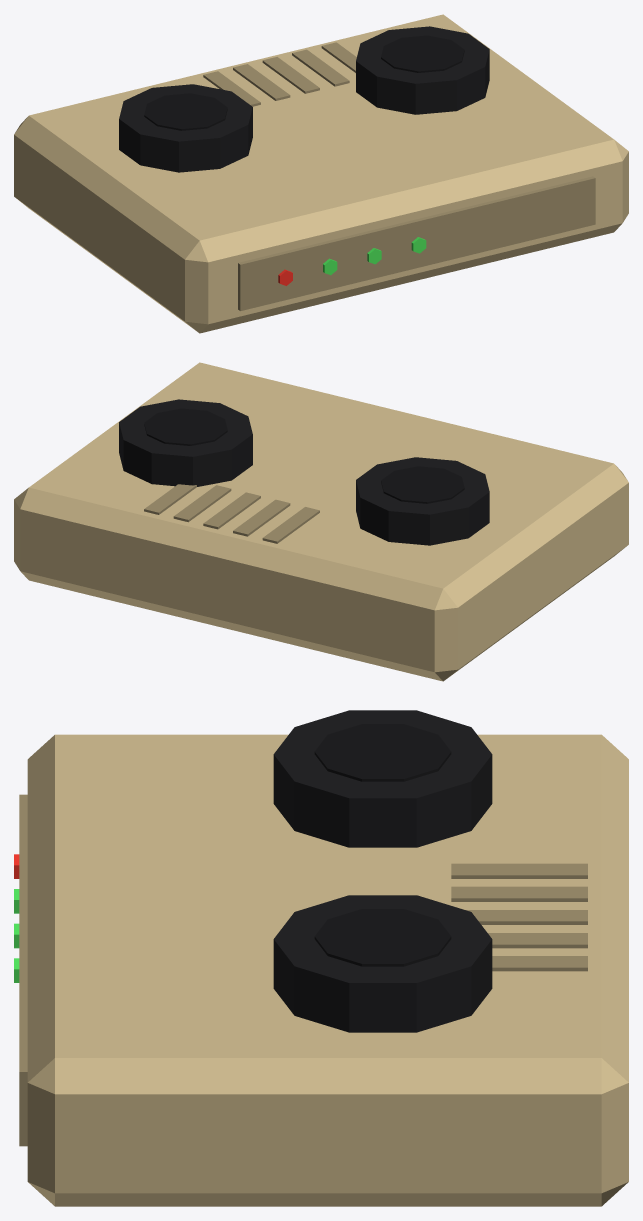
File: install.modem.glb
3 renders of one model, top to bottom at view 1: azimuth 30°, elevation 25°; view 2: azimuth 150°, elevation 25°; view 3: azimuth 270°, elevation 25°, orthographic. The views are drawn at different scales.
Visible parts, largest first — view 1: body, panel, cup-1, cup1, cup-hole-1, cup-hole1, vent1, vent3, vent2, vent0, vent4; view 2: body, cup-1, cup1, cup-hole-1, cup-hole1, vent1, vent2, vent3, vent0, vent4; view 3: body, cup1, cup-1, cup-hole1, cup-hole-1, panel, vent0, vent1, vent2, vent3, vent4.
Boxes of the visible parts, <box> form: body: <box>14,14,628,333</box>; panel: <box>238,176,595,311</box>; cup-1: <box>119,84,252,172</box>; cup1: <box>356,26,489,114</box>; cup-hole-1: <box>144,93,227,130</box>; cup-hole1: <box>381,35,464,72</box>; vent1: <box>233,64,290,100</box>; vent3: <box>292,49,349,86</box>; vent2: <box>262,57,319,93</box>; vent0: <box>203,71,260,106</box>; vent4: <box>321,42,356,72</box>; body: <box>14,362,628,681</box>; cup-1: <box>356,457,489,545</box>; cup1: <box>119,399,252,486</box>; cup-hole-1: <box>381,466,464,503</box>; cup-hole1: <box>144,408,227,445</box>; vent1: <box>233,499,290,536</box>; vent2: <box>203,492,260,529</box>; vent3: <box>173,485,231,522</box>; vent0: <box>262,507,319,543</box>; vent4: <box>144,484,196,514</box>; body: <box>27,734,628,1206</box>; cup1: <box>273,895,492,1032</box>; cup-1: <box>273,710,492,847</box>; cup-hole1: <box>314,909,451,966</box>; cup-hole-1: <box>314,724,451,781</box>; panel: <box>19,794,27,1146</box>; vent0: <box>451,863,587,878</box>; vent1: <box>451,886,587,901</box>; vent2: <box>466,910,587,924</box>; vent3: <box>488,933,587,948</box>; vent4: <box>492,956,587,971</box>.
Bounding box in the file's own units: 0.3 × 0.0811 × 0.225.
